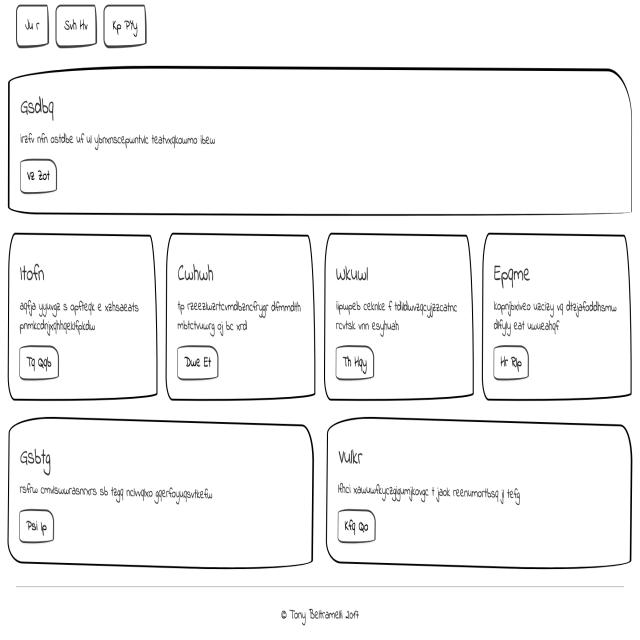Button: (15, 344, 73, 388), (332, 508, 378, 549), (174, 341, 221, 380), (331, 346, 379, 382), (16, 509, 58, 543), (19, 160, 59, 195), (490, 346, 531, 379)
Card: (6, 71, 637, 217), (5, 418, 317, 574), (327, 422, 635, 575), (3, 230, 161, 409), (482, 234, 639, 410), (165, 232, 320, 410), (326, 233, 478, 408)
Footer: (0, 579, 640, 640)
Heading 6: (493, 257, 540, 296), (18, 90, 61, 128), (175, 257, 224, 290), (335, 262, 383, 295), (16, 445, 61, 480), (18, 260, 58, 290), (332, 445, 365, 478)
Navigation Bar: (9, 0, 156, 57)
Paragraph: (336, 470, 524, 512), (176, 294, 304, 341), (334, 296, 459, 341), (491, 294, 618, 338), (15, 480, 217, 507), (18, 130, 223, 156), (18, 296, 142, 338)
